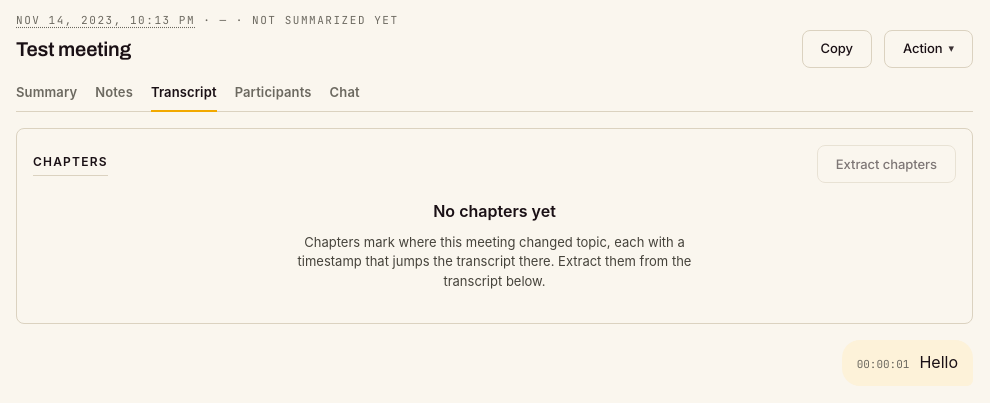
SummaryPane: chapters/summary single-worker busy interlock › a job for another session disables Extract chapters and says why
Check: the button with test id "session-chapters-extract" is disabled, box [817, 145, 956, 183]
What coordinates should you click on to do the following:
click the text with test id "session-tab-summary"
I would click on:
 (47, 92)
Its box is [16, 82, 77, 103].
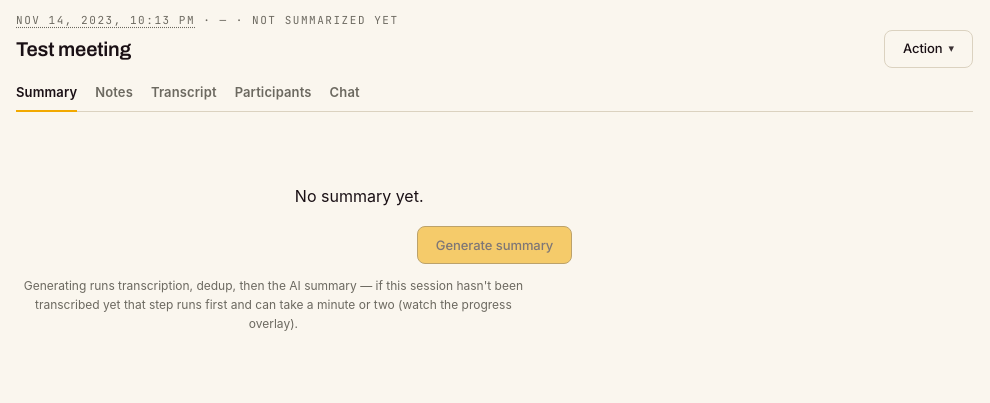
Check: the button with test id "session-summary-generate" is disabled, box [417, 226, 572, 264]
